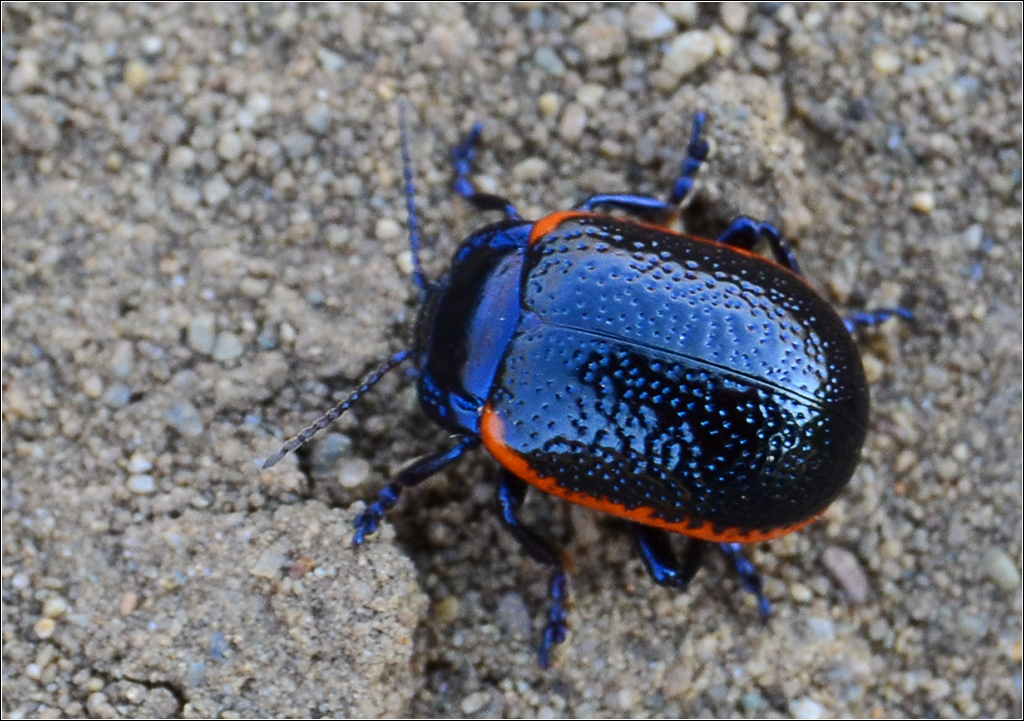Chrysolina_gypsophila: (219, 70, 920, 668)
